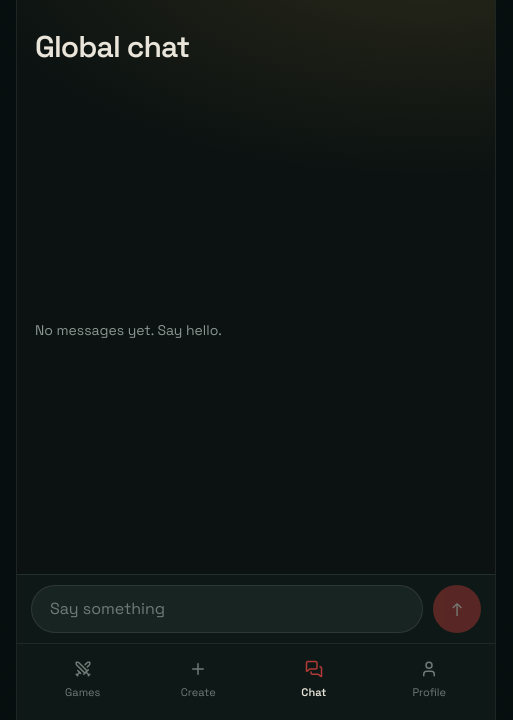
Scenario: preserves a failed draft and refreshes current candidates after INVALID_MENTION
Step 1. Type "hello @abc" into the dropdown named "Message" → (227,609), box [31,585,423,633]
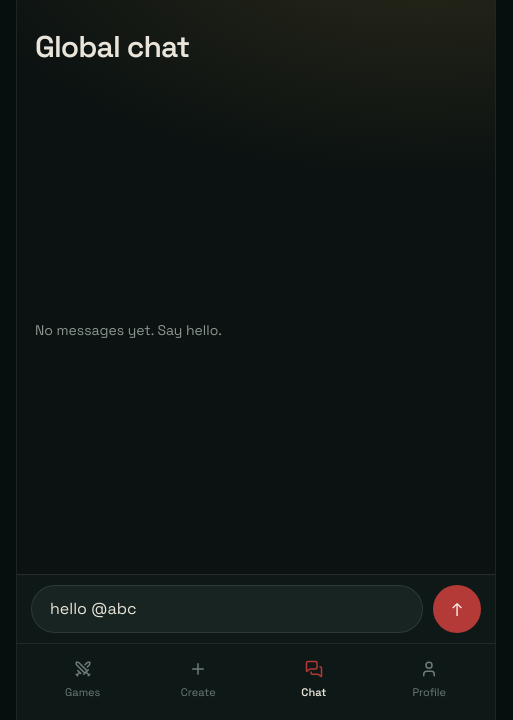
Step 2. Click the button named "Send message" → (457,609), box [433,585,481,633]
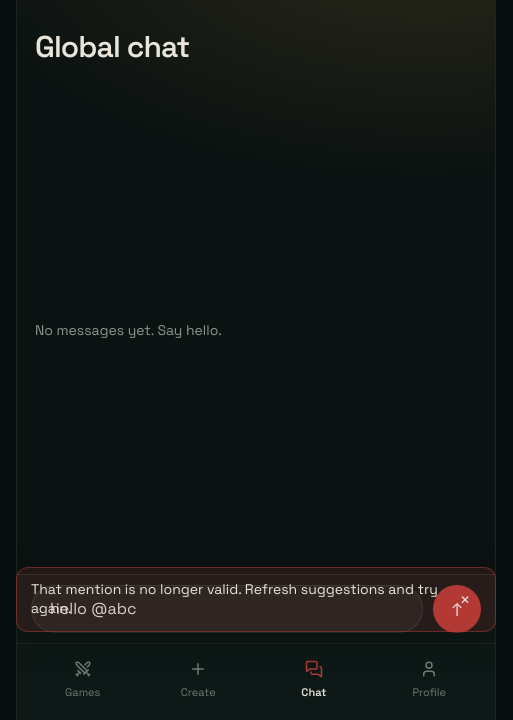
Now the text "no longer valid" is shown, box [31,580,438,617]
